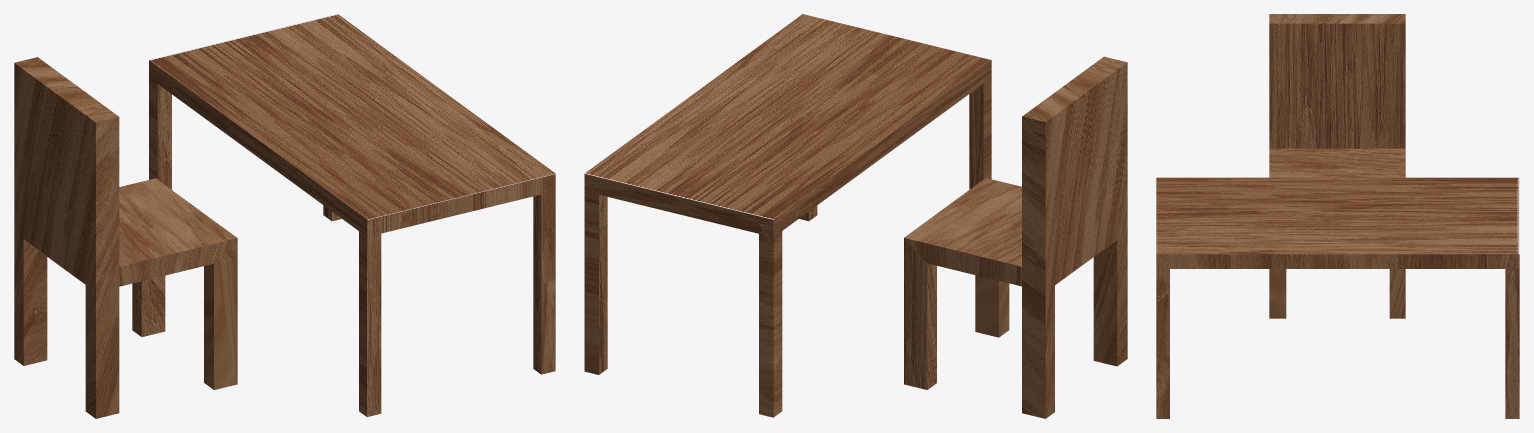
The model's file is chair1.fbx.
3 views of the same model, side by side, from view 1: azimuth 30°, elevation 25°; view 2: azimuth 150°, elevation 25°; view 3: azimuth 270°, elevation 25° (orthographic). The views are drawn at different scales.
Visible parts, largest first — view 1: table1, chair; view 2: table1, chair; view 3: table1, chair.
Part boxes in pixels (bbox=[...]): table1: bbox=[149, 14, 555, 416]; chair: bbox=[14, 57, 237, 418]; table1: bbox=[584, 14, 991, 417]; chair: bbox=[904, 56, 1127, 418]; table1: bbox=[1156, 177, 1519, 418]; chair: bbox=[1269, 14, 1405, 318].
Size of the model in its own units: 415 by 300 by 400.
